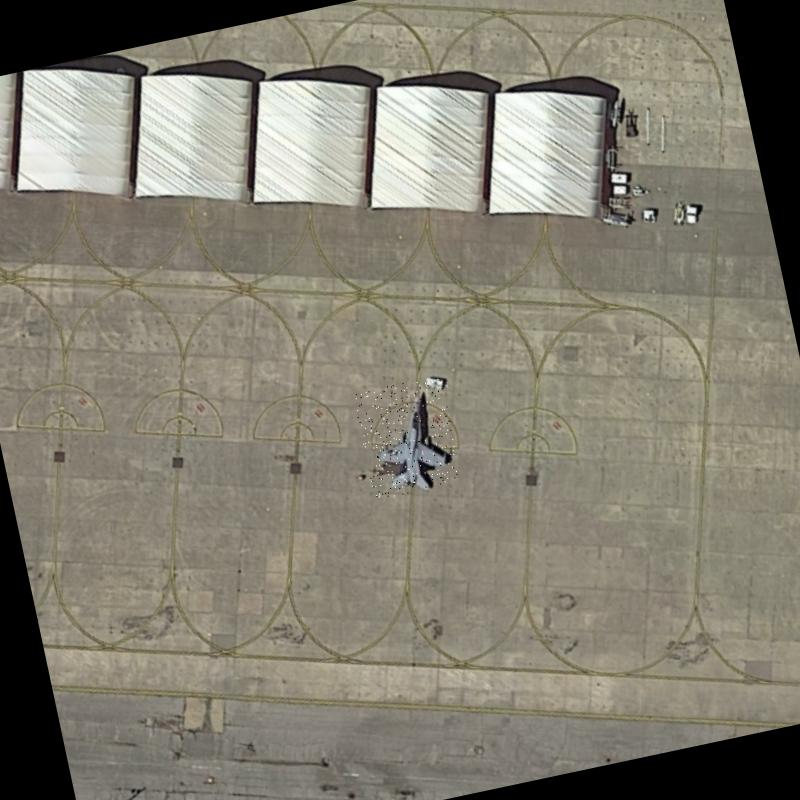A16: (352, 375, 464, 500)
